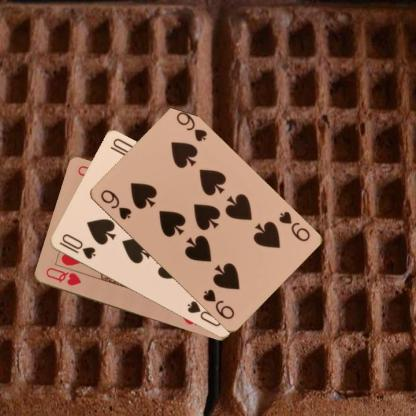10s: (56, 231, 97, 261)
9s: (276, 208, 312, 243), (97, 187, 133, 221)
Qh: (43, 265, 82, 287)
